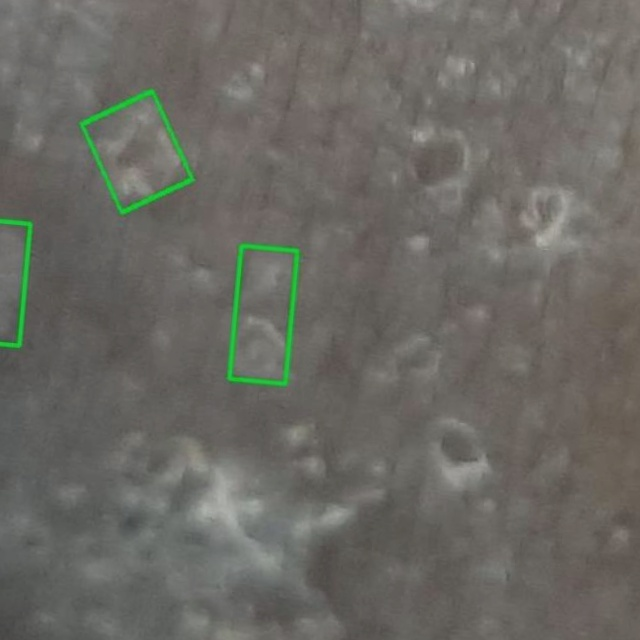Eczema: (81, 91, 192, 212), (229, 245, 297, 383)
